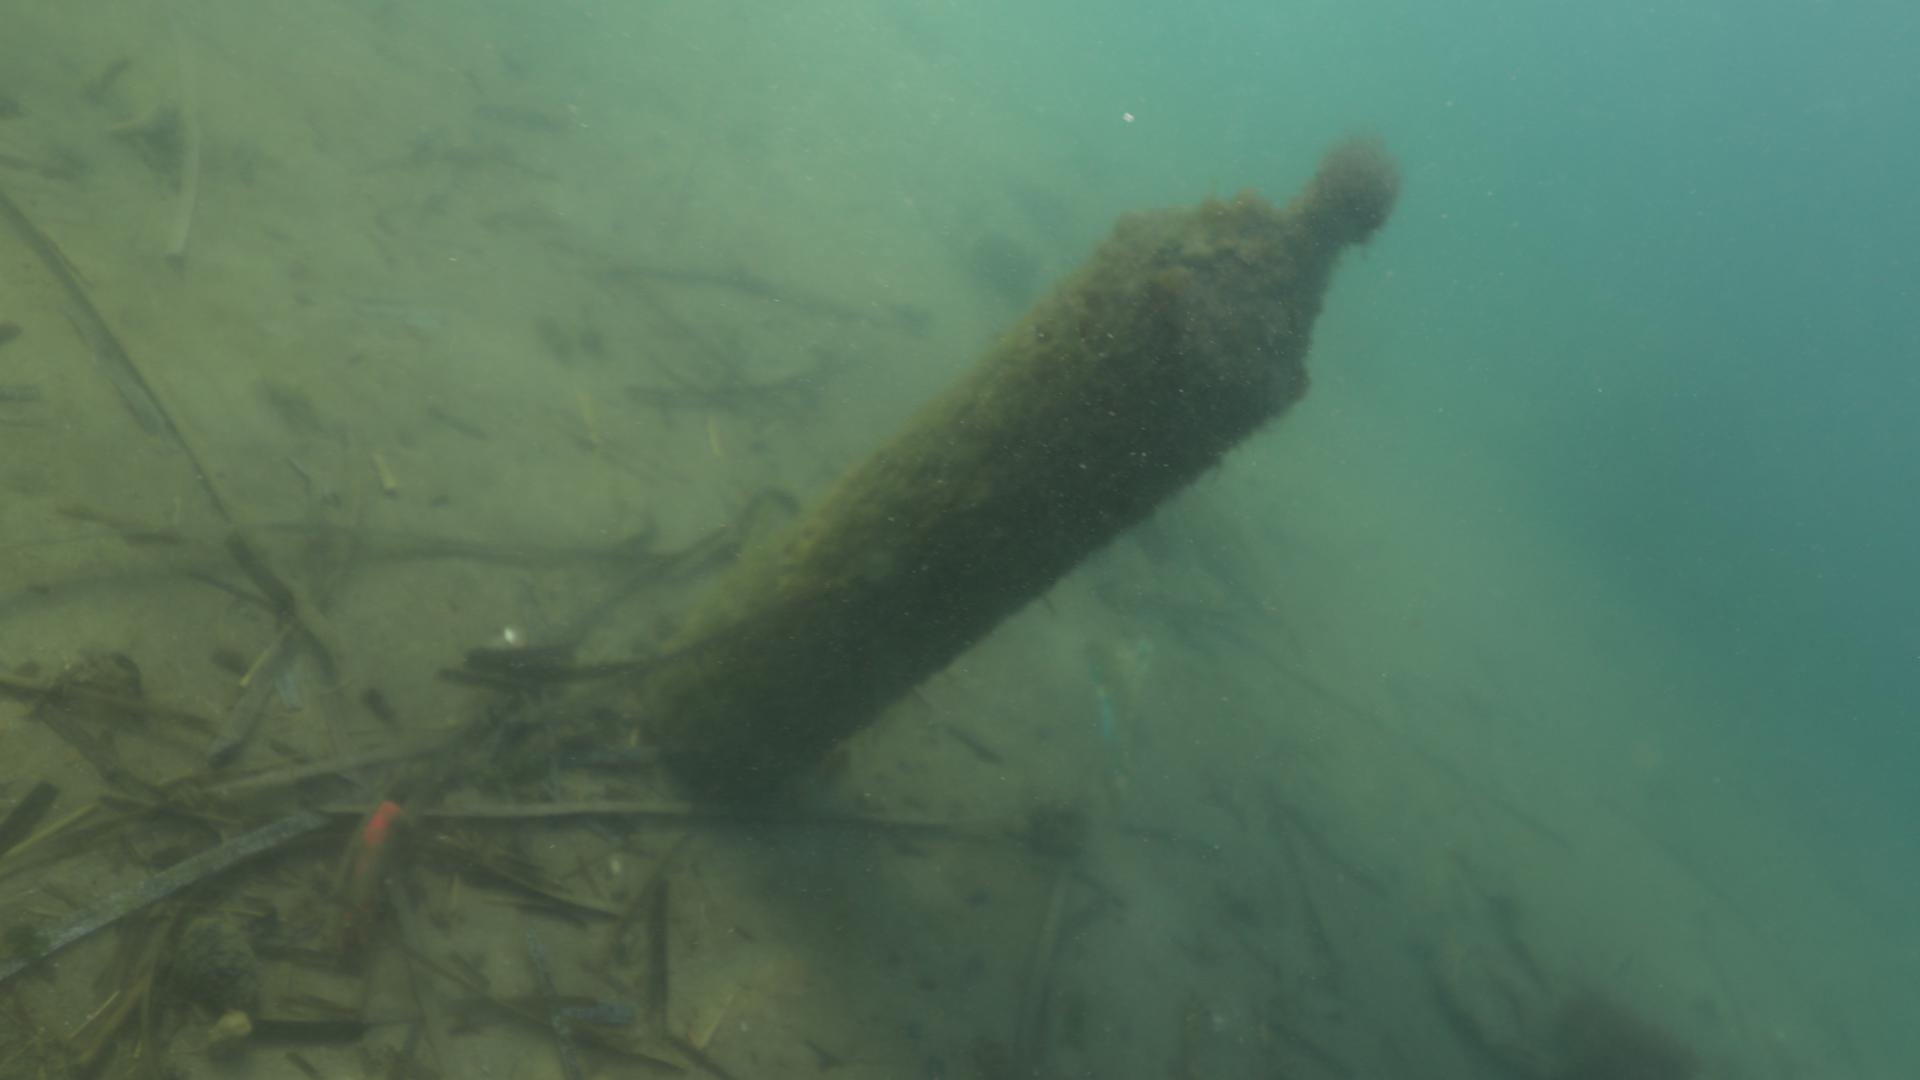eel fish trap: (638, 135, 1395, 798)
